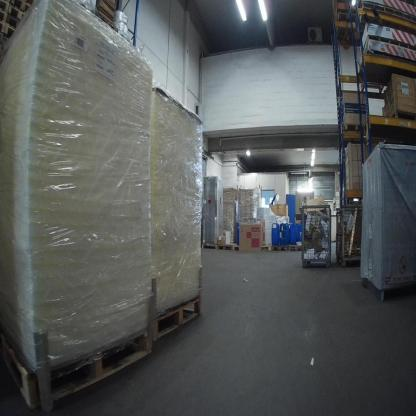pallets: (21, 290, 206, 412), (201, 240, 301, 255)
